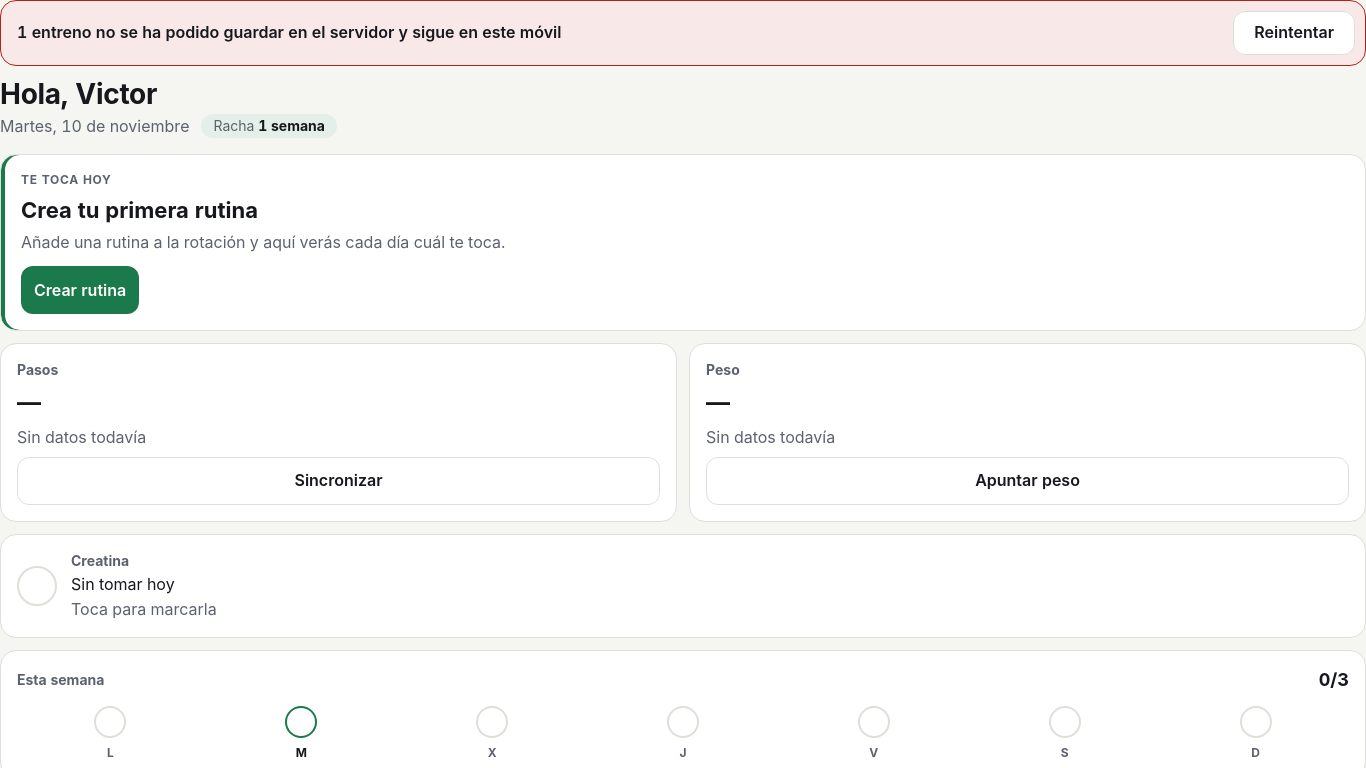
Scenario: Hoy: entrenos que el servidor rechazó › si al reintentar no hay red, el entreno queda en la cola y el aviso se quita (la cola lo reenviará)
The image size is (1366, 768).
Expected: the message is shown, x1=0 y1=0 x2=1365 y2=66
Click the button "Reintentar": (1294, 33) x1=1233 y1=11 x2=1355 y2=55
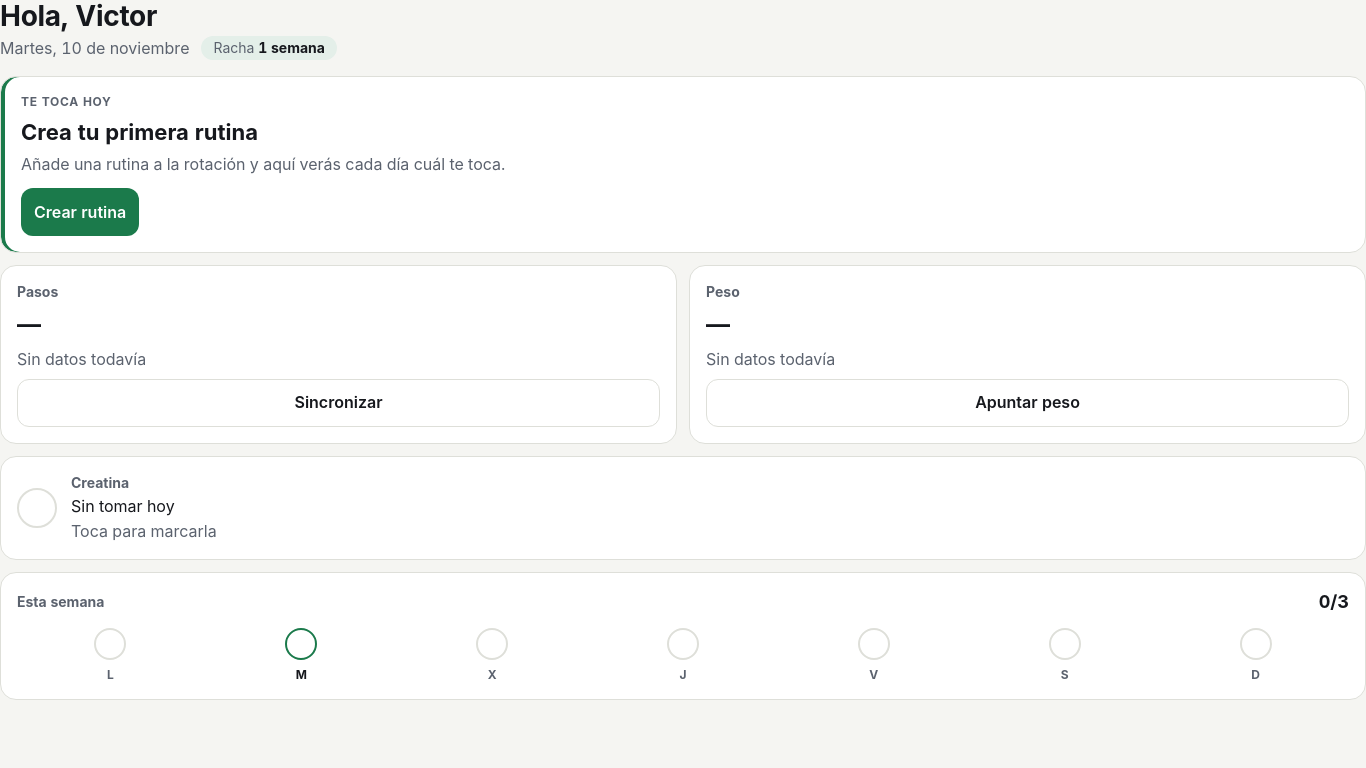
Expected: the message is gone
